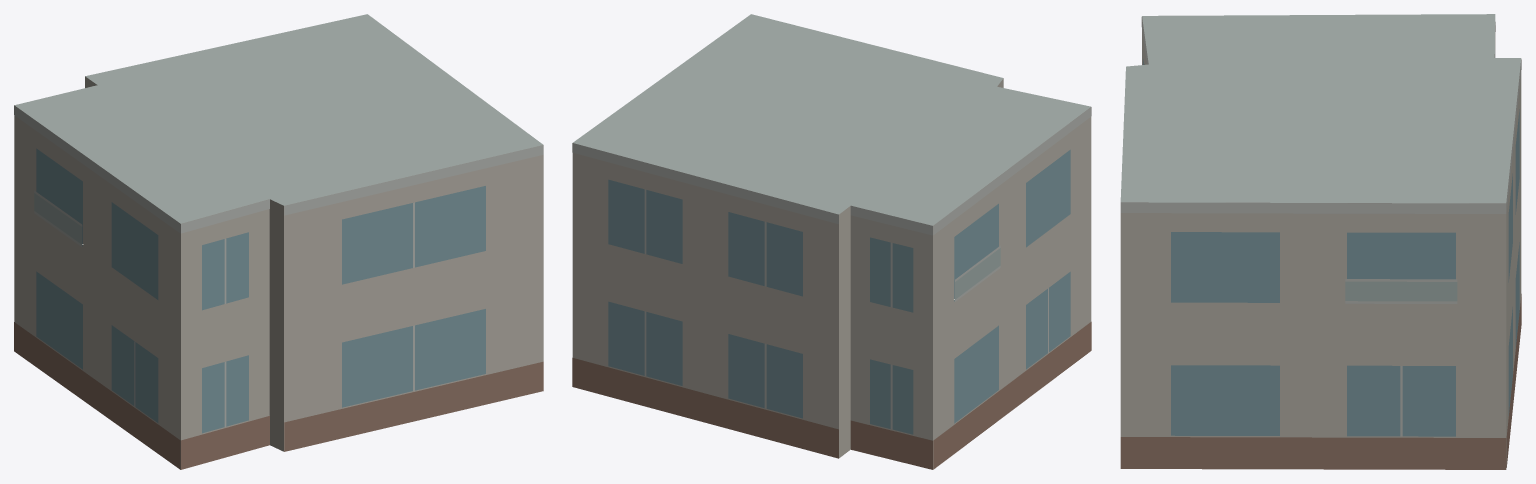
File: survey-upis-32517087.glb
3 views of the same model, side by side, from view 1: azimuth 30°, elevation 25°; view 2: azimuth 150°, elevation 25°; view 3: azimuth 270°, elevation 25° (orthographic). The views are drawn at different scales.
Visible parts, largest first — view 1: survey-upis-32517087.tmp; view 2: survey-upis-32517087.tmp; view 3: survey-upis-32517087.tmp.
Boxes of the visible parts, x1,y1,x2,y2 form: survey-upis-32517087.tmp: (14,14,543,469); survey-upis-32517087.tmp: (572,14,1091,469); survey-upis-32517087.tmp: (1120,14,1521,469).
Bounding box in the file's own units: 9.36 × 6.1 × 8.33.
